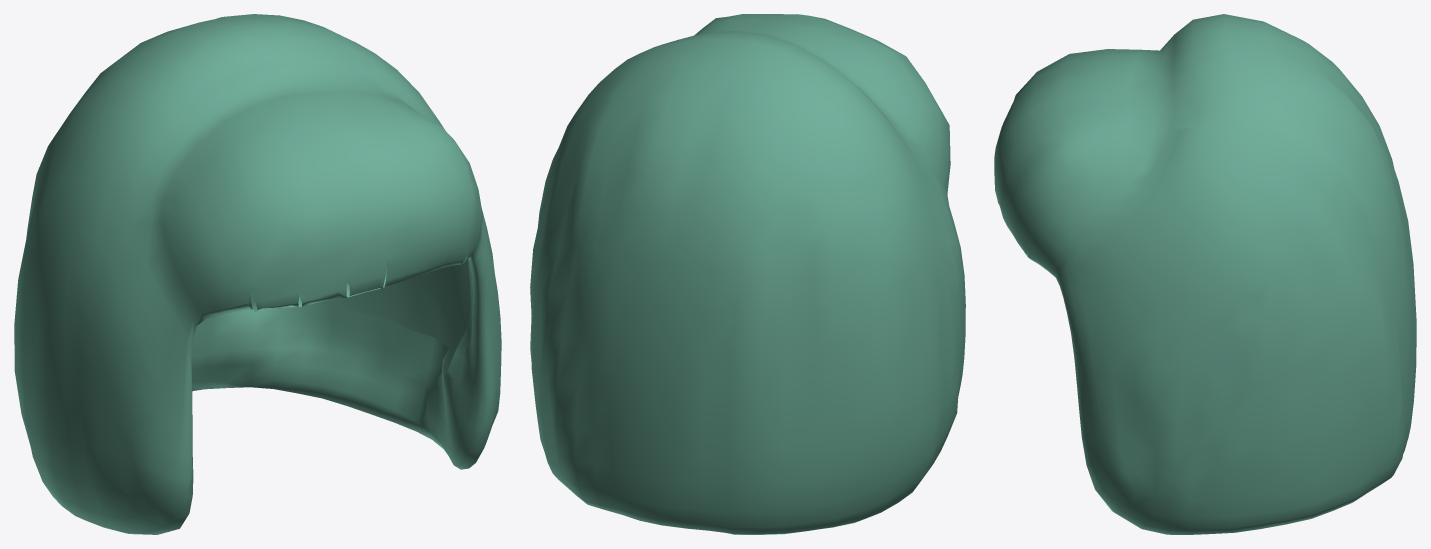
3 views of the same model, side by side, from view 1: azimuth 30°, elevation 25°; view 2: azimuth 150°, elevation 25°; view 3: azimuth 270°, elevation 25° (orthographic). The views are drawn at different scales.
Parts seen in each view (by area): view 1: low:HAirhairha; view 2: low:HAirhairha; view 3: low:HAirhairha.
Boxes of the visible parts, x1,y1,x2,y2 form: low:HAirhairha: (14,14,501,534); low:HAirhairha: (530,14,965,534); low:HAirhairha: (994,14,1416,534).
Size of the model in its own units: 1.02 by 1.08 by 0.9823.
